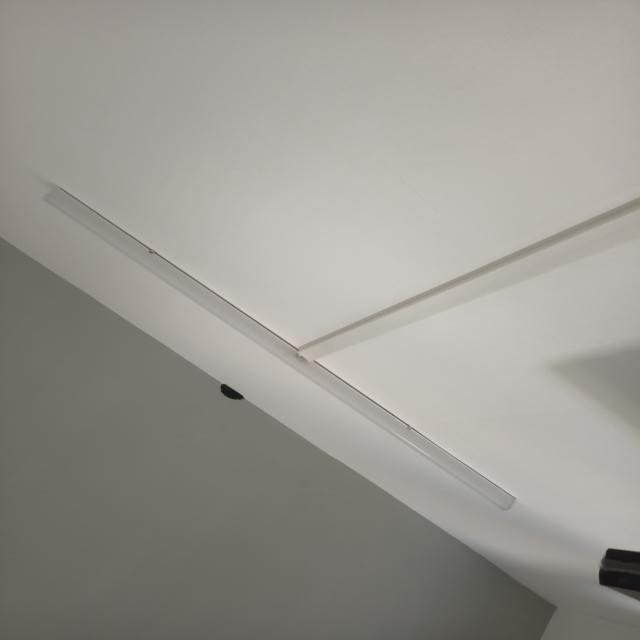fluorescent tube: (36, 179, 527, 521)
